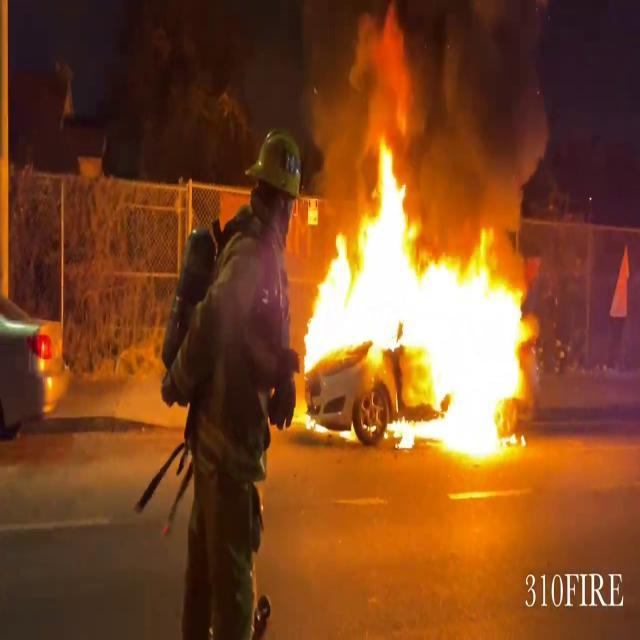Fire: (294, 98, 544, 464)
Smoke: (390, 1, 558, 230)
